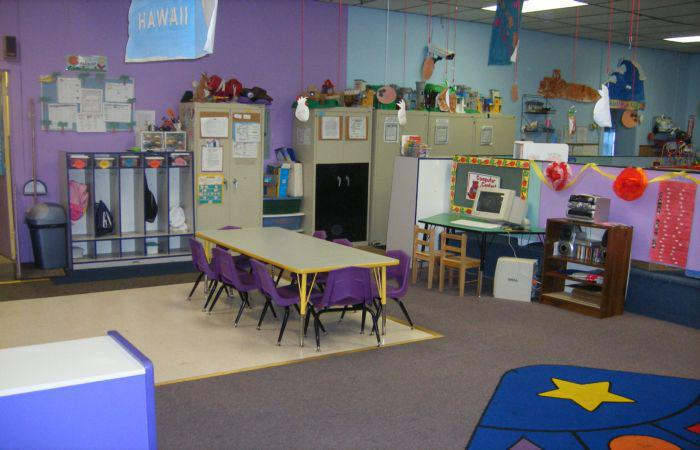Bote de Basura: (27, 204, 71, 274)
